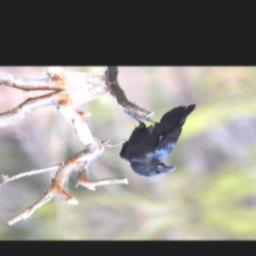Crow: (107, 100, 217, 181)
